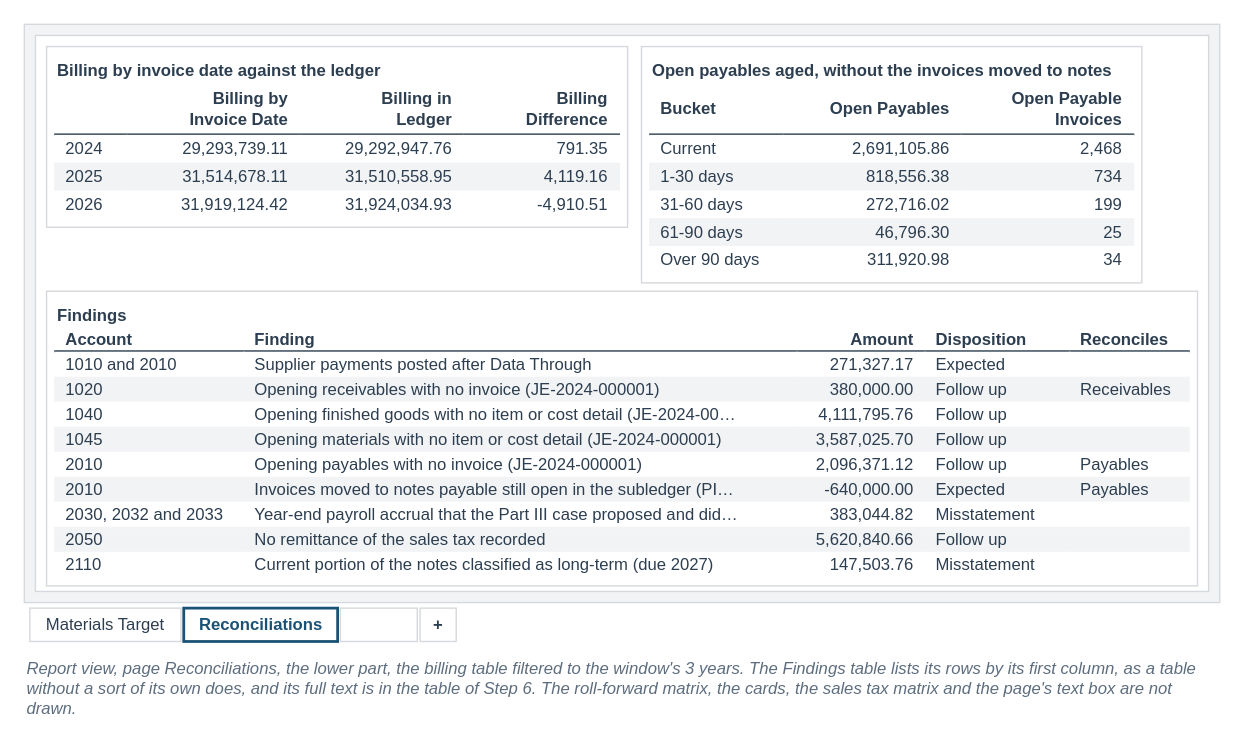
Some shapes in this 1244 by 751 pixel diagram are drawn without their labels. Here are the shapes that lost their labels. From the top down, the box of each, then its label:
(54, 81, 127, 136): Year
(339, 607, 417, 641): Memo
